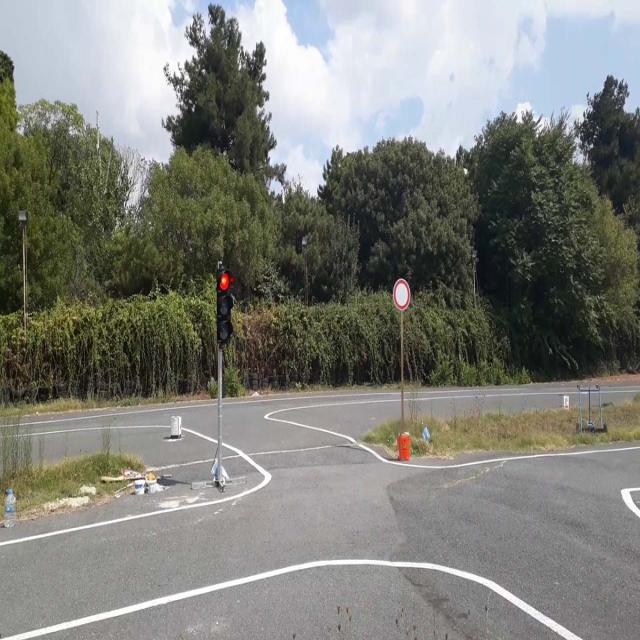kirmizi: (217, 269, 231, 343)
